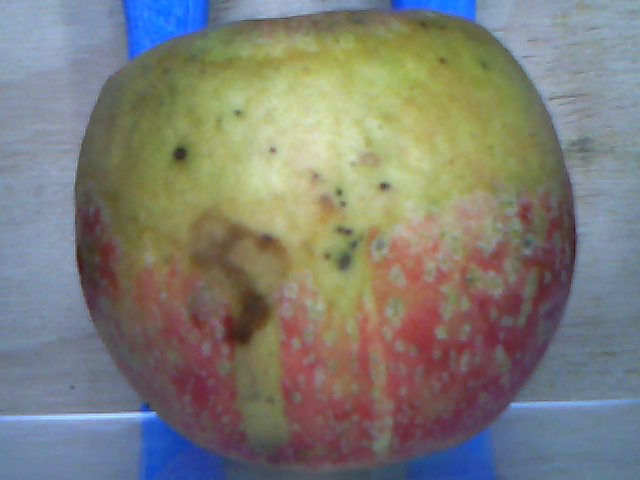bruise: (184, 211, 277, 346)
